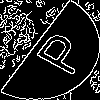P: (24, 25, 92, 78)
